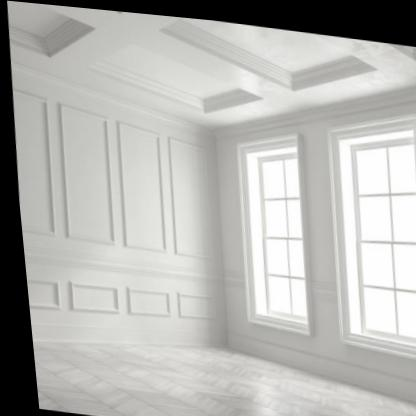Wall Panel: (12, 86, 214, 321)
Window: (326, 110, 416, 351), (229, 130, 303, 328)
